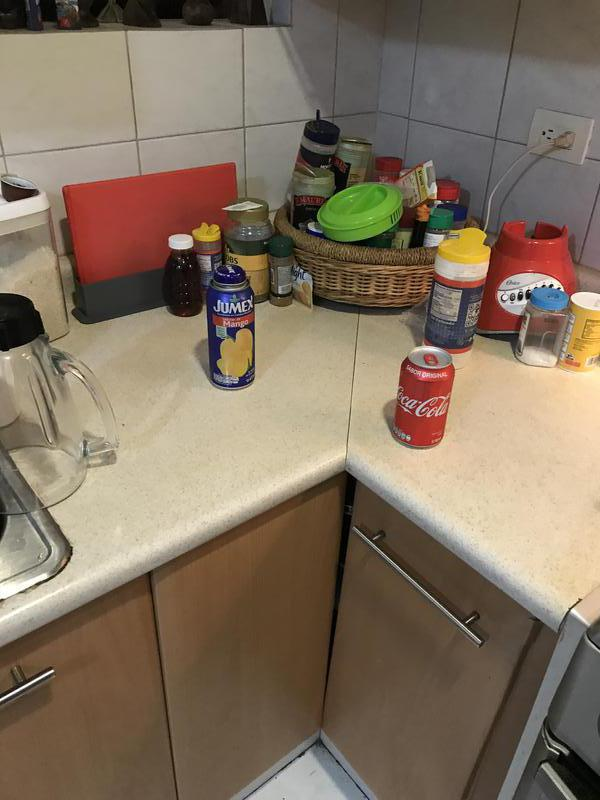coca_cola: (395, 345, 451, 448)
jugo_jumex: (206, 267, 259, 390)
